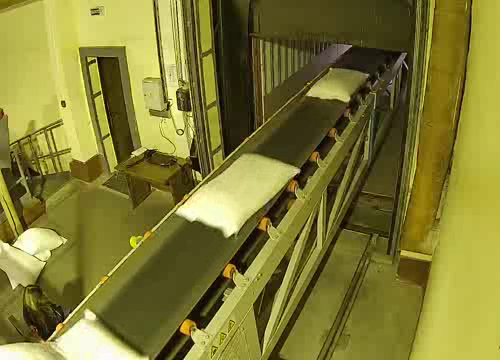bag: (168, 148, 307, 240), (0, 303, 158, 360), (301, 61, 376, 104)
